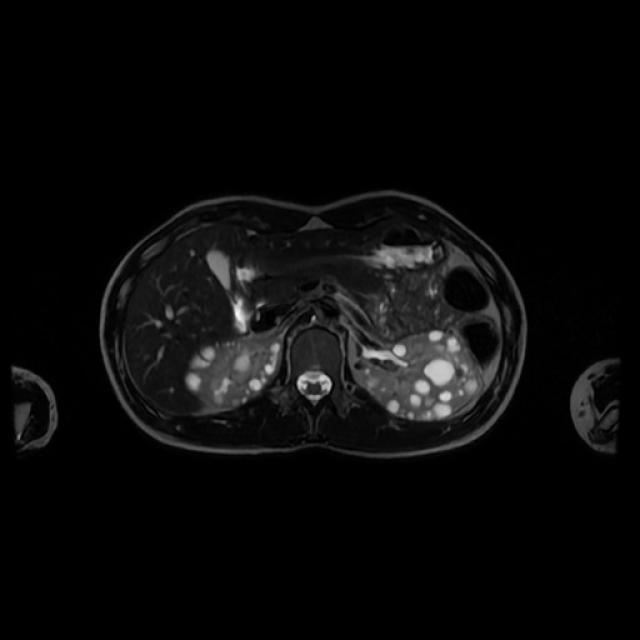sag: (186, 335, 284, 410)
sol: (361, 330, 483, 421)
